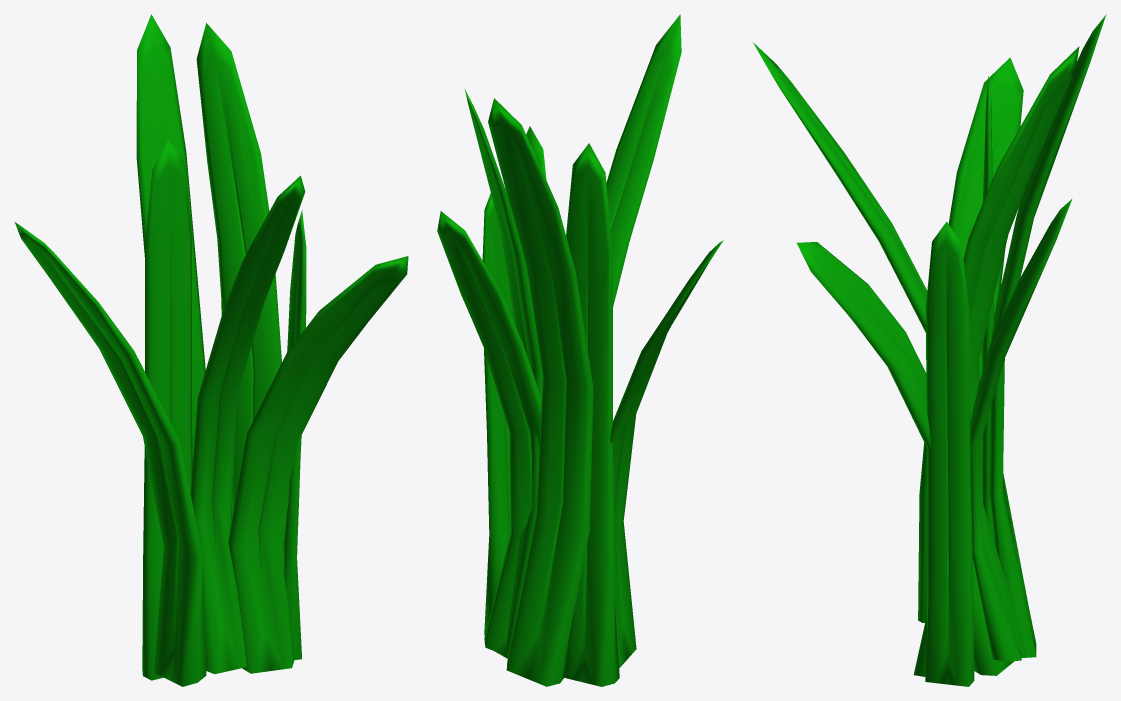
Rendered from obj_Grass_Group1.fbx.
3 renders of one model, left to right at view 1: azimuth 30°, elevation 25°; view 2: azimuth 150°, elevation 25°; view 3: azimuth 270°, elevation 25°, orthographic. The views are drawn at different scales.
Parts seen in each view (by area): view 1: Grass1; view 2: Grass1; view 3: Grass1.
Part boxes in pixels (x1,y1,x2,y2): Grass1: [14, 14, 408, 686]; Grass1: [437, 14, 723, 686]; Grass1: [753, 14, 1106, 686].
Bounding box in the file's own units: 0.9346 × 1.81 × 0.9055.
